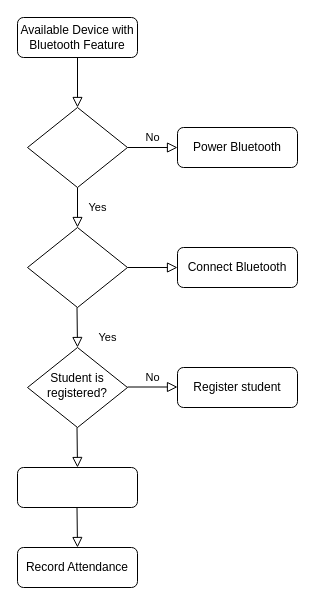
This 315x605 diagram has some shape labels left out. The box of each missing label's shape, as (x1, y1, x2, y2) in pixels:
Bluetooth is Connected?: (26, 226, 128, 308)
Bluetooth is On?: (26, 106, 128, 188)
Login: (16, 466, 138, 508)
